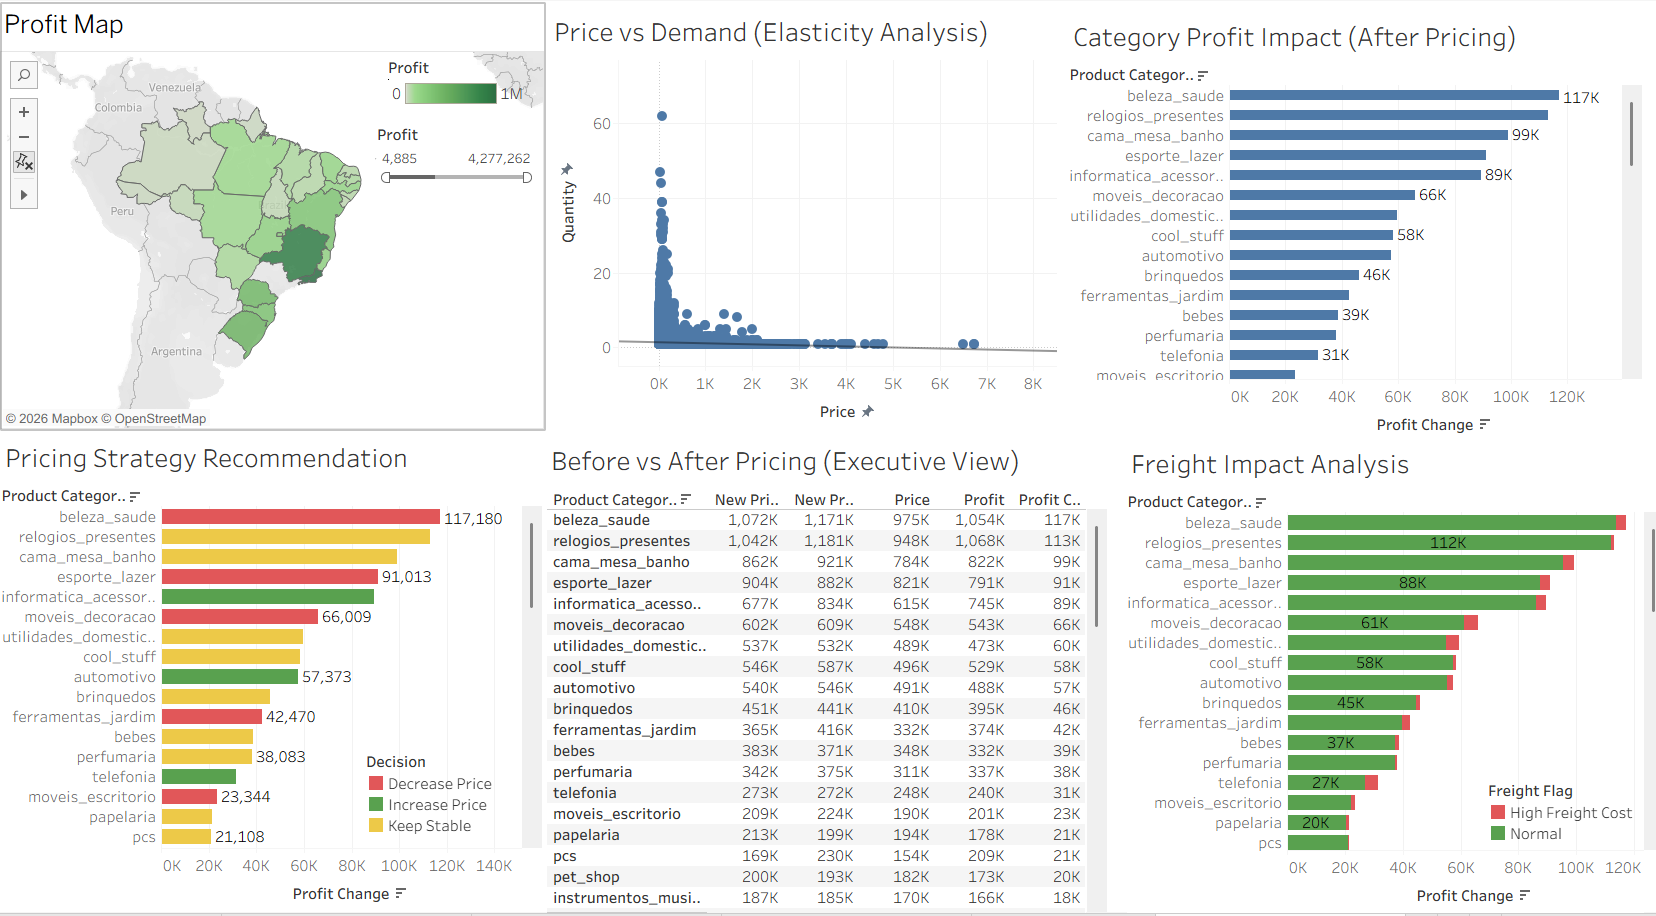

The page's visual inventory and layout, read from the dashboard file:
{"tool":"tableau","page":{"name":"E-Commerce Pricing Optimization Dashboard","canvas":[1000,1000],"units":"permille","ordinal":0},"visuals":[{"type":"worksheet","title":"Sheet 1","mark":"Automatic","box":[0.6,3.3,328.3,466.5]},{"type":"worksheet","title":"Category Profit Impact (After Pricing)","mark":"Bar","rows":["product_category_name"],"cols":["profit_change"],"box":[651.8,8.8,345.8,468.7]},{"type":"legend","title":"Pricing Strategy Recommendation","param":"[federated.0arco19042hijj1dgoy2z08z234y].[none:decision:nk]","box":[898.6,8.8,96.6,102.1]},{"type":"worksheet","title":"Price vs Demand (Elasticity Analysis)","mark":"Circle","rows":["quantity"],"cols":["price"],"box":[332.5,9.9,306,459.9]},{"type":"legend","title":"Sheet 1","param":"[federated.0arco19042hijj1dgoy2z08z234y].[sum:profit:qk]","box":[234.8,61.5,84.5,96.6]},{"type":"legend","title":"Freight Impact Analysis","param":"[federated.0arco19042hijj1dgoy2z08z234y].[none:freight_flag:nk]","box":[898.6,110.9,96.6,79]},{"type":"worksheet","title":"Pricing Strategy Recommendation","mark":"Automatic","rows":["product_category_name"],"cols":["profit_change"],"box":[1.2,477.5,326.5,521.4]},{"type":"worksheet","title":"Before vs After Pricing (Executive View)","mark":"Automatic","rows":["product_category_name"],"box":[330.7,480.8,338,520.3]},{"type":"worksheet","title":"Freight Impact Analysis","mark":"Automatic","rows":["product_category_name"],"cols":["profit_change"],"box":[680.8,484.1,324.1,517]}]}

Visuals, with their boxes on the dashboard's canvas, which has no fixed pixel size, in thousandths of its width and height (x1, y1, x2, y2). These are canvas units, not pixel positions in the 1656x916 screenshot, which may show the page scaled, cropped or inside an application window:
"Sheet 1" worksheet: 1,3,329,470
"Category Profit Impact (After Pricing)" worksheet (Bar marks): 652,9,998,478
"Pricing Strategy Recommendation" legend: 899,9,995,111
"Price vs Demand (Elasticity Analysis)" worksheet (Circle marks): 332,10,638,470
"Sheet 1" legend: 235,62,319,158
"Freight Impact Analysis" legend: 899,111,995,190
"Pricing Strategy Recommendation" worksheet: 1,478,328,999
"Before vs After Pricing (Executive View)" worksheet: 331,481,669,1001
"Freight Impact Analysis" worksheet: 681,484,1005,1001
